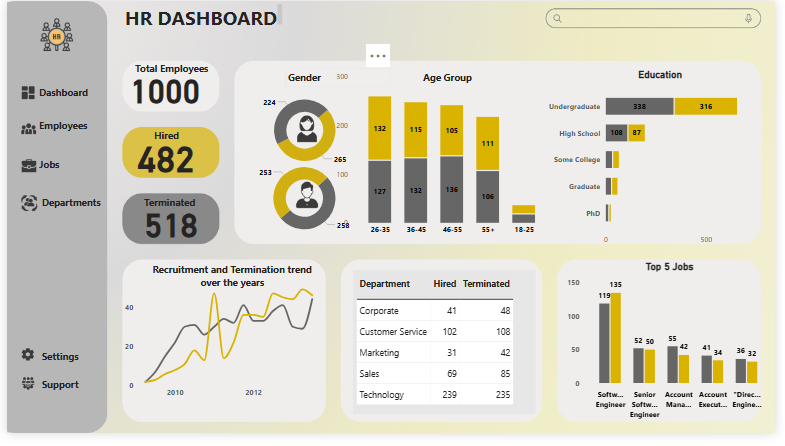

What the dashboard file says about the page in this screenshot:
{"tool":"powerbi","page":{"name":"Page 1","canvas":[1280,720],"ordinal":0},"visuals":[{"type":"textbox","box":[192,0,272,48],"z":0},{"type":"card","fields":{"Values":["HR_Dataset.Total_Employees"]},"box":[144,96,240,96],"z":1000},{"type":"card","fields":{"Values":["HR_Dataset.Hired"]},"box":[128,192,272,128],"z":2000},{"type":"card","fields":{"Values":["HR_Dataset.Terminated_Employees"]},"box":[136,304,272,128],"z":3000},{"type":"donutChart","title":"Gender","fields":{"Category":["HR_Dataset.Active_Status"],"Y":["CountNonNull(HR_Dataset.Gender)"]},"box":[368,144,256,144],"z":4000},{"type":"donutChart","fields":{"Category":["HR_Dataset.Active_Status"],"Y":["CountNonNull(HR_Dataset.Gender)"]},"box":[352,256,288,144],"z":5000},{"type":"columnChart","title":"Age Group ","fields":{"Category":["HR_Dataset.Age_Group"],"Y":["CountNonNull(HR_Dataset.EmployeeID)"],"Series":["HR_Dataset.Active_Status"]},"box":[544,112,368,288],"z":6000},{"type":"barChart","title":"Education","fields":{"Category":["HR_Dataset.Education"],"Y":["CountNonNull(HR_Dataset.EmployeeID)"],"Series":["HR_Dataset.Active_Status"]},"box":[896,112,384,304],"z":7000},{"type":"lineChart","title":"Recruitment and Termination Trend","fields":{"Y":["CountNonNull(HR_Dataset.EmployeeID)"],"Series":["HR_Dataset.Active_Status"],"Category":["HR_Dataset.Start_Date.Variation.Date Hierarchy.Year","HR_Dataset.Start_Date.Variation.Date Hierarchy.Quarter"]},"box":[192,464,336,208],"z":8000},{"type":"tableEx","title":"Departments","fields":{"Values":["HR_Dataset.Department","HR_Dataset.Hired","HR_Dataset.Terminated"]},"box":[576,448,304,240],"z":9000},{"type":"clusteredColumnChart","title":"Top 5 Jobs","fields":{"Category":["HR_Dataset.Job_title"],"Y":["CountNonNull(HR_Dataset.EmployeeID)"],"Series":["HR_Dataset.Active_Status"]},"box":[928,432,352,272],"z":10000},{"type":"textbox","box":[464,112,176,32],"z":11000},{"type":"textbox","box":[240,208,64,32],"z":12000},{"type":"textbox","box":[224,320,128,40],"z":13000},{"type":"textbox","box":[224,432,304,64],"z":14000},{"type":"textbox","box":[48,192,120,32],"z":15000},{"type":"textbox","box":[48,256,120,32],"z":16000},{"type":"textbox","box":[48,320,120,32],"z":17000},{"type":"textbox","box":[48,136,120,32],"z":18000},{"type":"textbox","box":[48,576,112,32],"z":19000},{"type":"textbox","box":[48,624,112,32],"z":20000},{"type":"textbox","box":[208,96,176,32],"z":21000},{"type":"textbox","box":[688,112,176,32],"z":22000}]}

Visuals, with their boxes on the page's 1280x720 design canvas (x1, y1, x2, y2). These are canvas units, not pixel positions in the 785x446 screenshot, which may show the page scaled, cropped or inside an application window:
textbox: detection(192, 0, 464, 48)
card - HR_Dataset.Total_Employees: detection(144, 96, 384, 192)
card - HR_Dataset.Hired: detection(128, 192, 400, 320)
card - HR_Dataset.Terminated_Employees: detection(136, 304, 408, 432)
"Gender" donutChart: detection(368, 144, 624, 288)
donutChart - HR_Dataset.Active_Status x CountNonNull(HR_Dataset.Gender): detection(352, 256, 640, 400)
"Age Group " columnChart: detection(544, 112, 912, 400)
"Education" barChart: detection(896, 112, 1280, 416)
"Recruitment and Termination Trend" lineChart: detection(192, 464, 528, 672)
"Departments" tableEx: detection(576, 448, 880, 688)
"Top 5 Jobs" clusteredColumnChart: detection(928, 432, 1280, 704)
textbox: detection(464, 112, 640, 144)
textbox: detection(240, 208, 304, 240)
textbox: detection(224, 320, 352, 360)
textbox: detection(224, 432, 528, 496)
textbox: detection(48, 192, 168, 224)
textbox: detection(48, 256, 168, 288)
textbox: detection(48, 320, 168, 352)
textbox: detection(48, 136, 168, 168)
textbox: detection(48, 576, 160, 608)
textbox: detection(48, 624, 160, 656)
textbox: detection(208, 96, 384, 128)
textbox: detection(688, 112, 864, 144)
